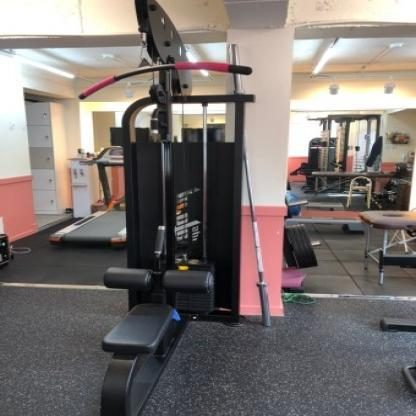Lat Pull Down: (33, 1, 279, 416)
